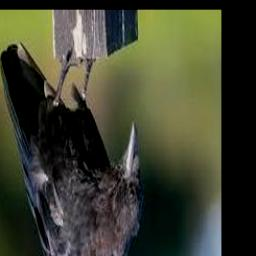Crow: (0, 42, 142, 256)
